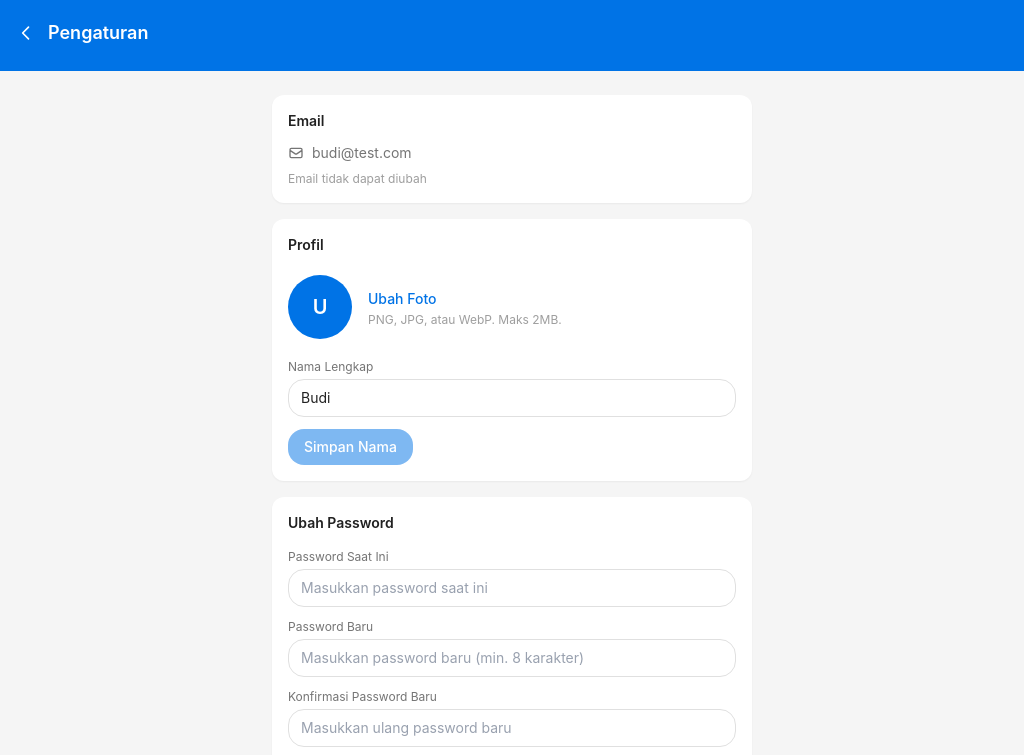
Settings page, password change › does not sign out when the change is refused
Type "password-lama-1" into the password field labelled "Password Saat Ini" at (512, 588), box [288,569,736,607]
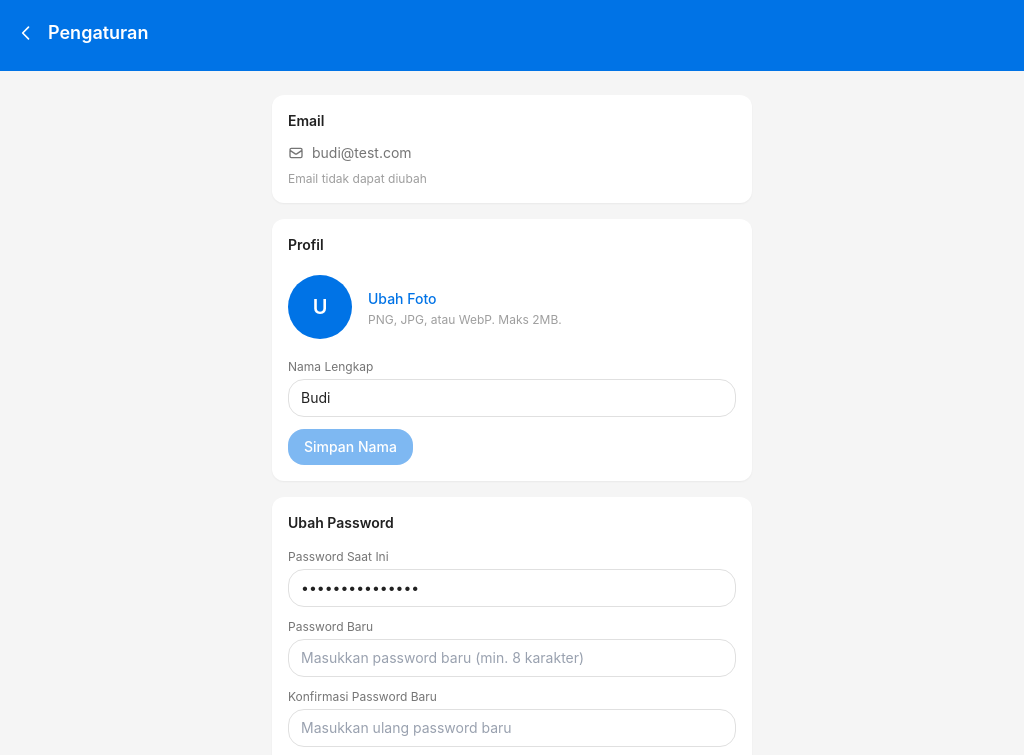
Type "password-baru-123" into the password field labelled "Password Baru" at (512, 658), box [288,639,736,677]
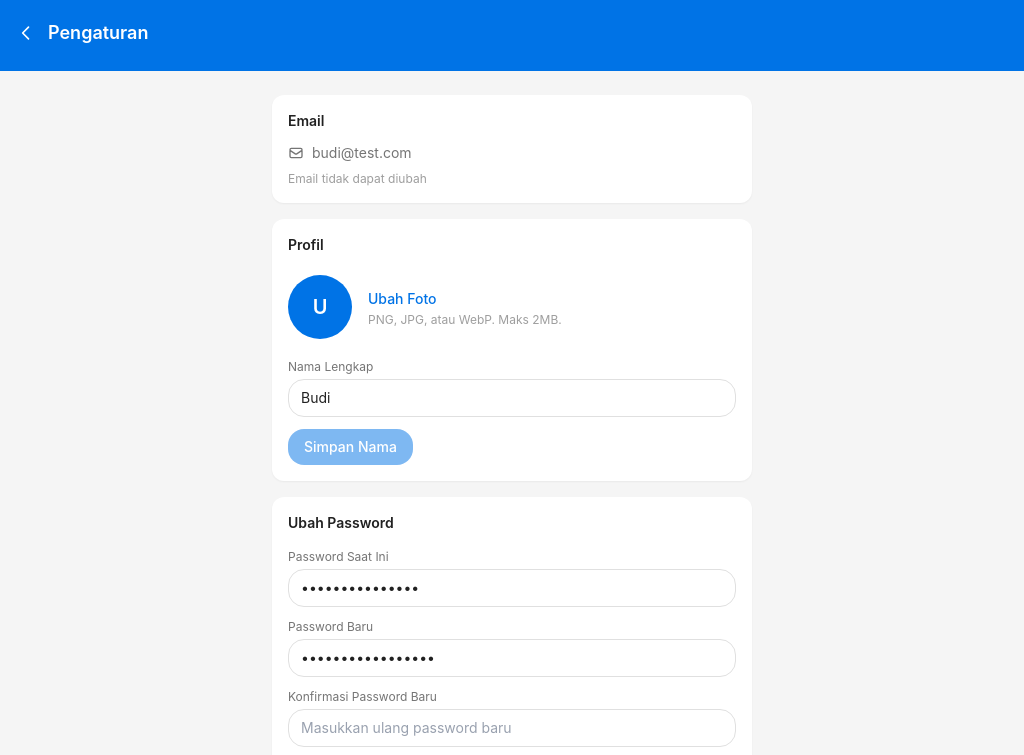
Type "password-baru-123" into the password field labelled "Konfirmasi Password Baru" at (512, 728), box [288,709,736,747]
(page scrolled)
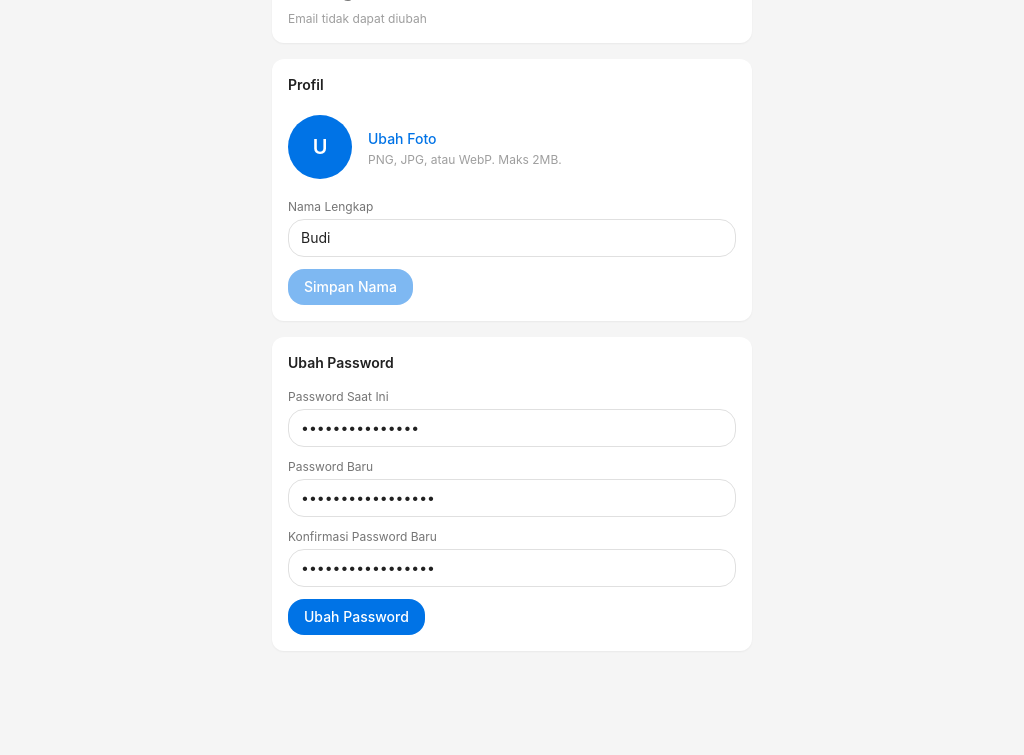
Click the button "Ubah Password" at (356, 617), box [288,599,425,635]
Wait 5000 ms
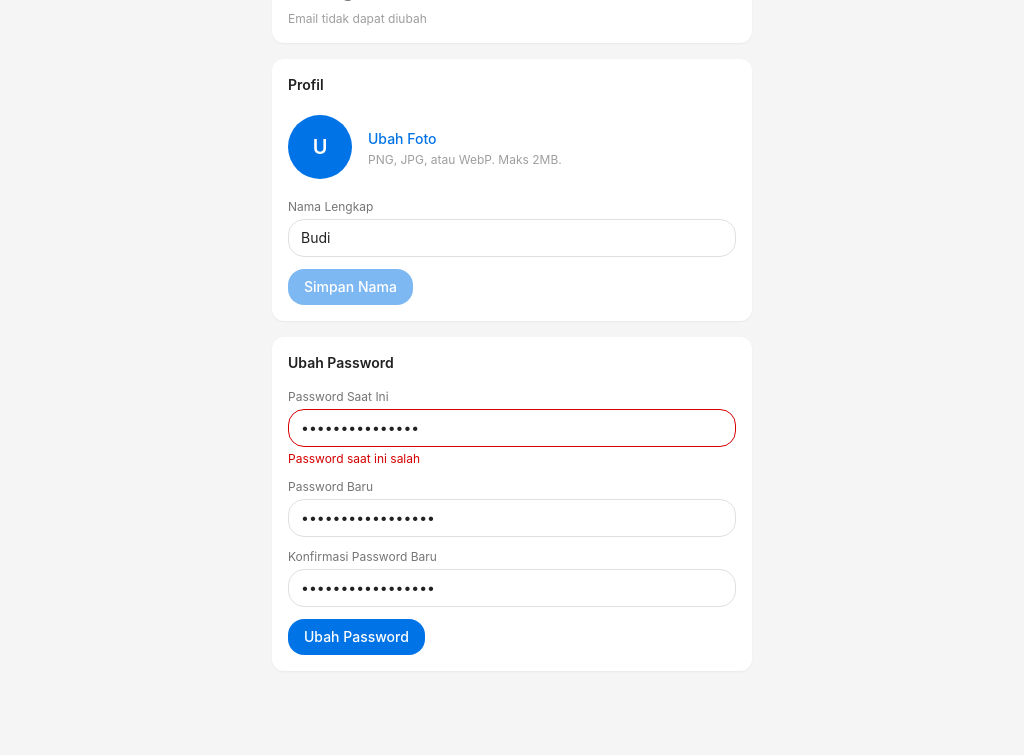
Check: the text "Password saat ini salah" is shown, box [288,451,420,466]
